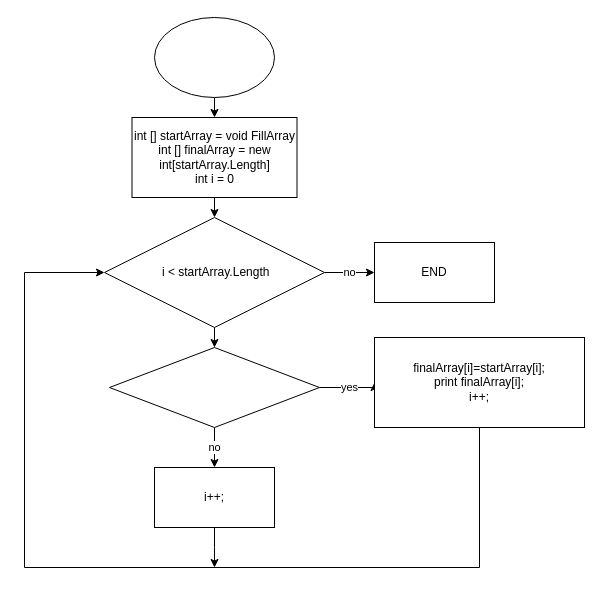
Image size: 602x593. Some labels were removed from this diagram. The box of each missing label's shape, as (x1, y1, x2, y2) in pixels:
START: (154, 16, 274, 98)
startArray[i] % 2 == 0 ?: (108, 346, 320, 428)
